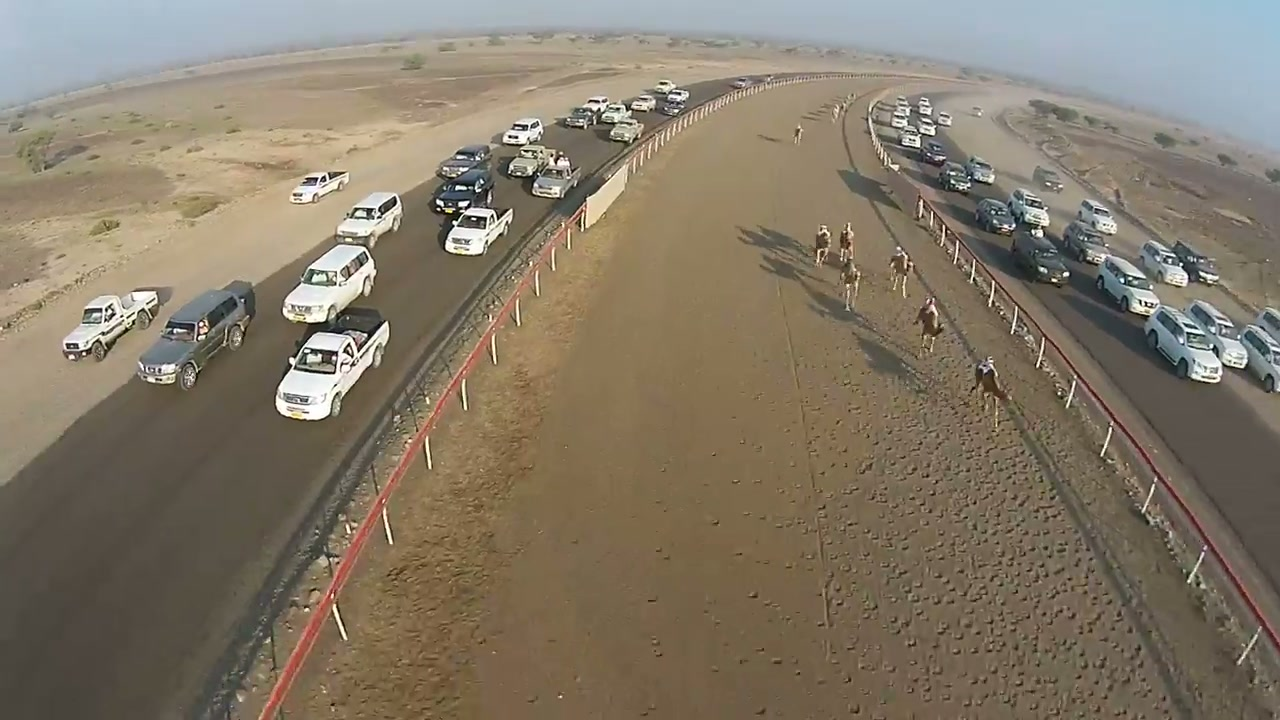animal_foot_print: (860, 378, 1195, 711)
